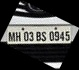character: (8, 31, 15, 42), (48, 30, 54, 42), (64, 30, 70, 41), (35, 31, 41, 41), (54, 30, 59, 42), (28, 31, 33, 42), (41, 31, 46, 42), (15, 31, 20, 41), (23, 31, 28, 41), (59, 31, 64, 41)
